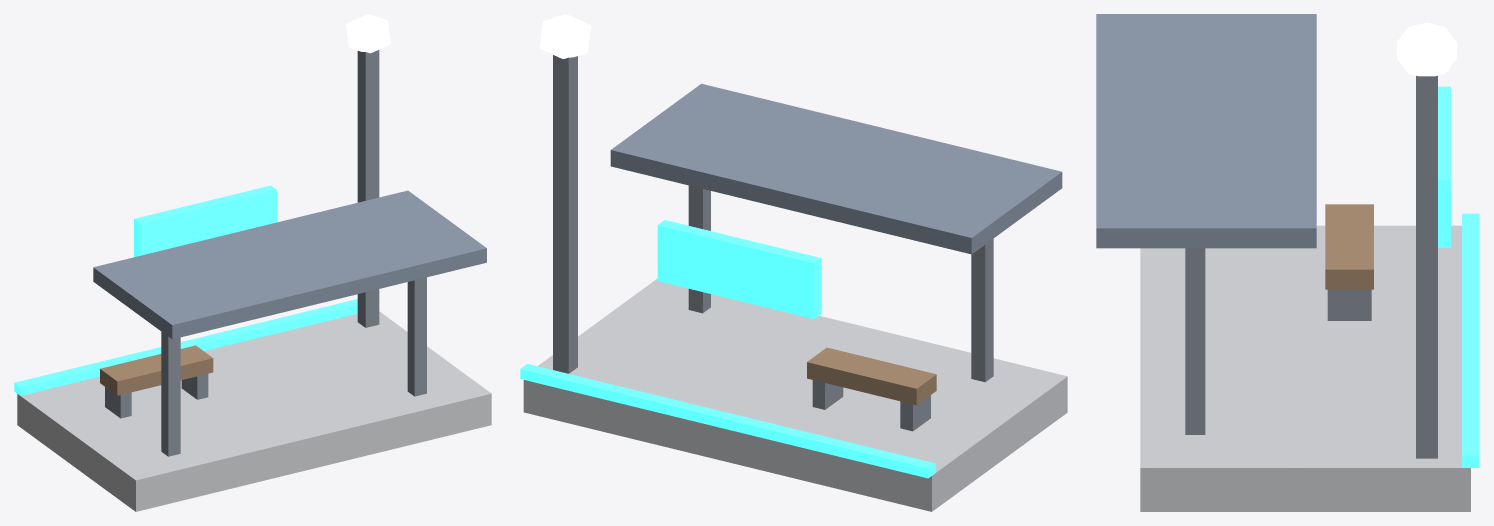
File: station.glb
3 renders of one model, left to right at view 1: azimuth 30°, elevation 25°; view 2: azimuth 150°, elevation 25°; view 3: azimuth 270°, elevation 25°, orthographic. The views are drawn at different scales.
Parts seen in each view (by area): view 1: MetroStation; view 2: MetroStation; view 3: MetroStation.
Boxes of the visible parts, x1=… form: MetroStation: x1=14, y1=14, x2=491, y2=511; MetroStation: x1=520, y1=14, x2=1067, y2=511; MetroStation: x1=1096, y1=14, x2=1479, y2=511.
Size of the model in its own units: 2.6 by 2.38 by 1.74.
